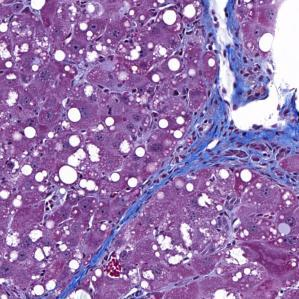fibrosis: (189, 107, 292, 175)
